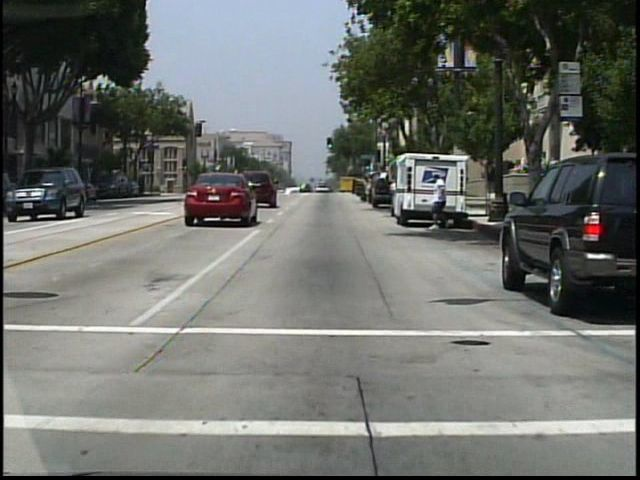person: (425, 172, 456, 233), (355, 173, 376, 209)
